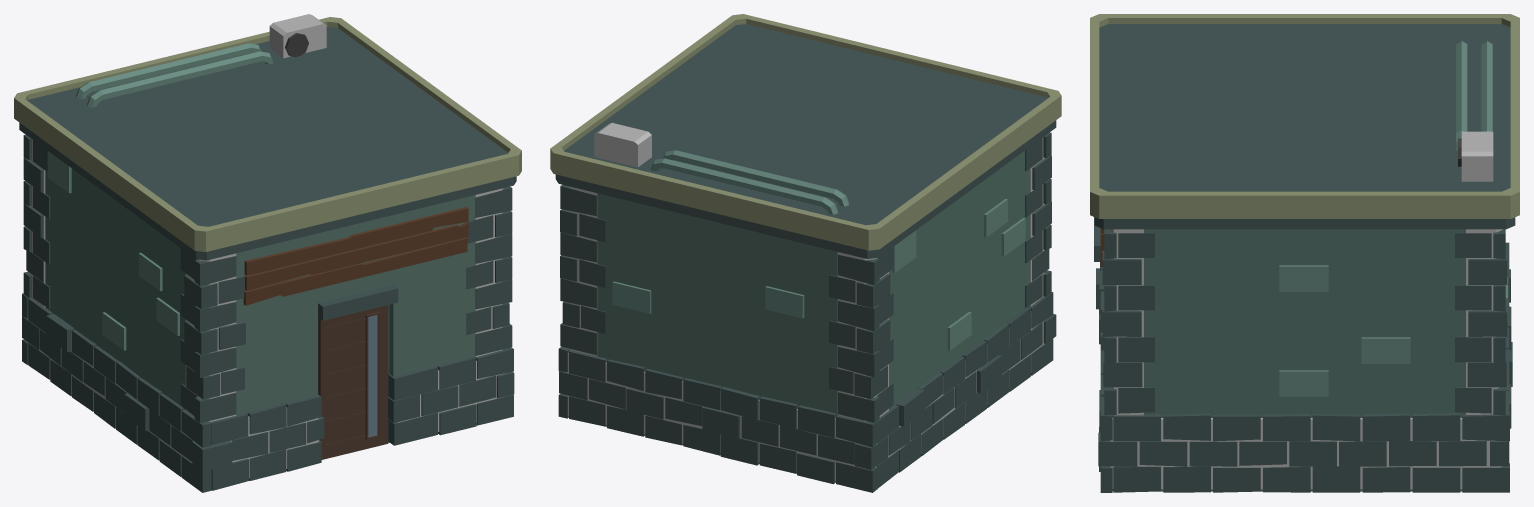
The model's file is 1Story_Sign_Mat.gltf.
3 renders of one model, left to right at view 1: azimuth 30°, elevation 25°; view 2: azimuth 150°, elevation 25°; view 3: azimuth 270°, elevation 25°, orthographic. The views are drawn at different scales.
Visible parts, largest first — view 1: o 1Story_Sign_Mat_Cube.039; view 2: o 1Story_Sign_Mat_Cube.039; view 3: o 1Story_Sign_Mat_Cube.039.
Boxes of the visible parts, x1,y1,x2,y2 form: o 1Story_Sign_Mat_Cube.039: [14, 14, 521, 492]; o 1Story_Sign_Mat_Cube.039: [550, 14, 1061, 492]; o 1Story_Sign_Mat_Cube.039: [1090, 14, 1519, 492].
Size of the model in its own units: 2.15 by 1.79 by 2.15.
